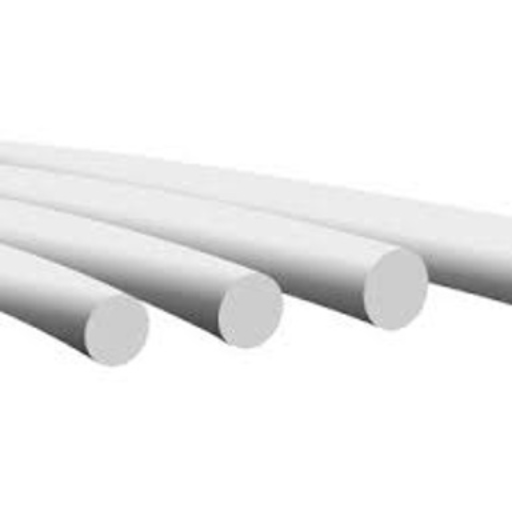Circle: (220, 272, 283, 346), (368, 251, 428, 324), (88, 296, 148, 363)
